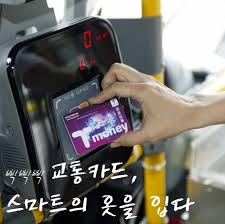terminal: (4, 14, 141, 204)
